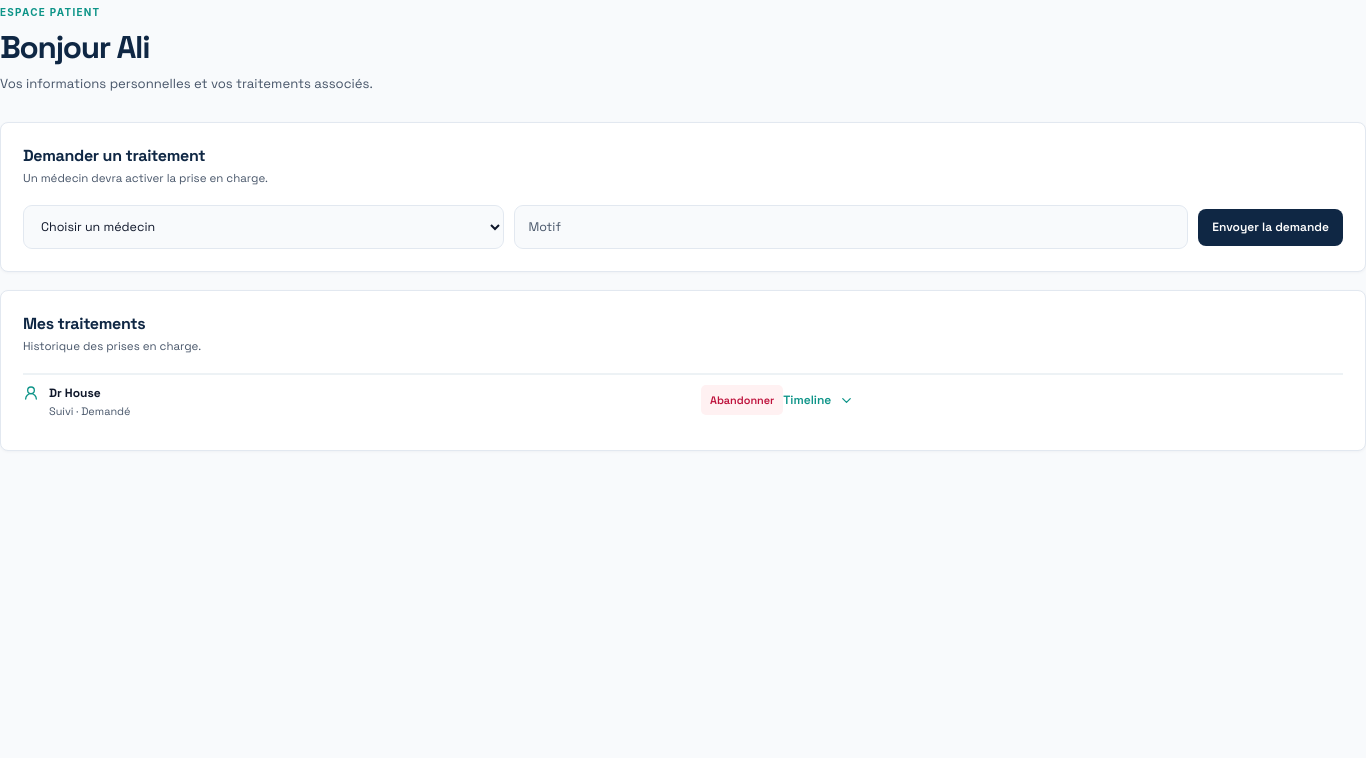
loads timeline details when a patient expands an episode
This screenshot has width=1366, height=758.
Step 1. Click the button "Timeline" → point(819, 400), box x1=783 y1=392 x2=854 y2=408
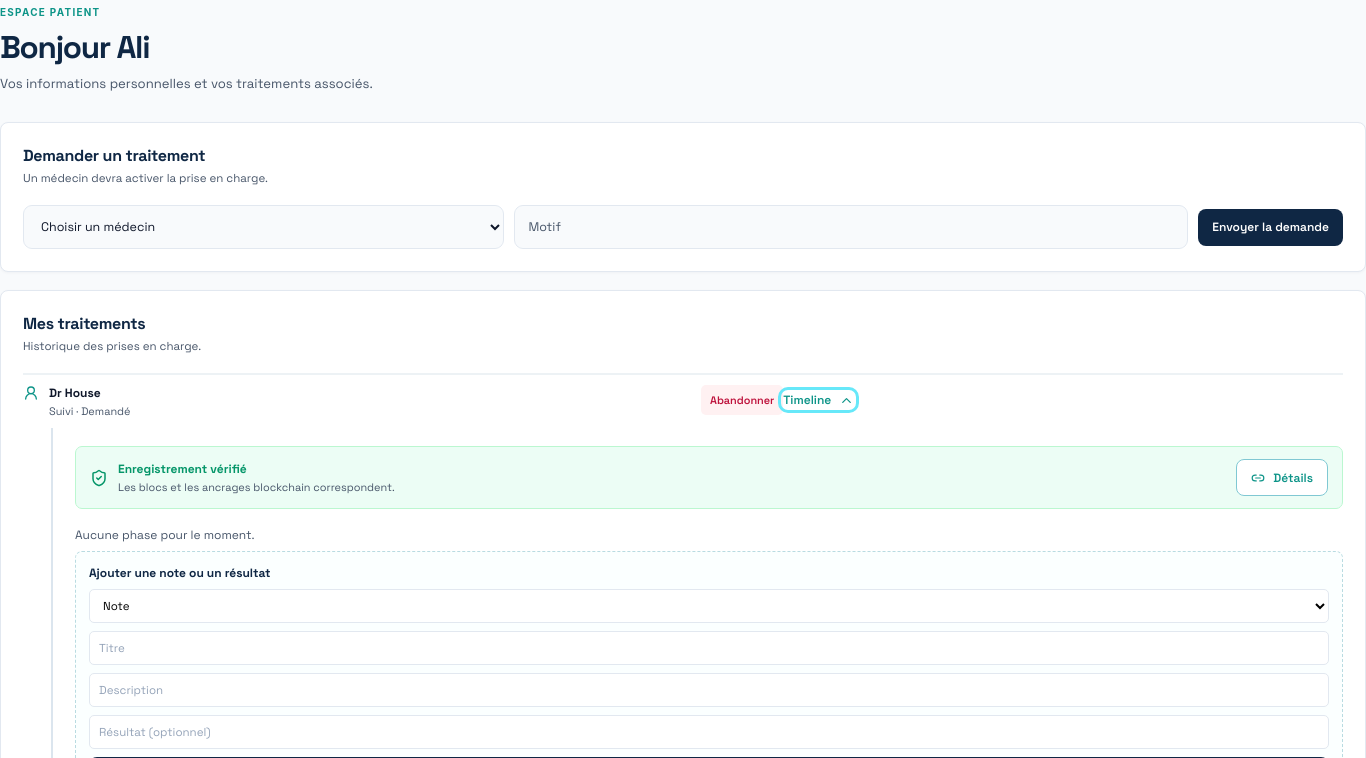
Check: the text "Enregistrement vérifié" is shown, box x1=118 y1=461 x2=247 y2=477
